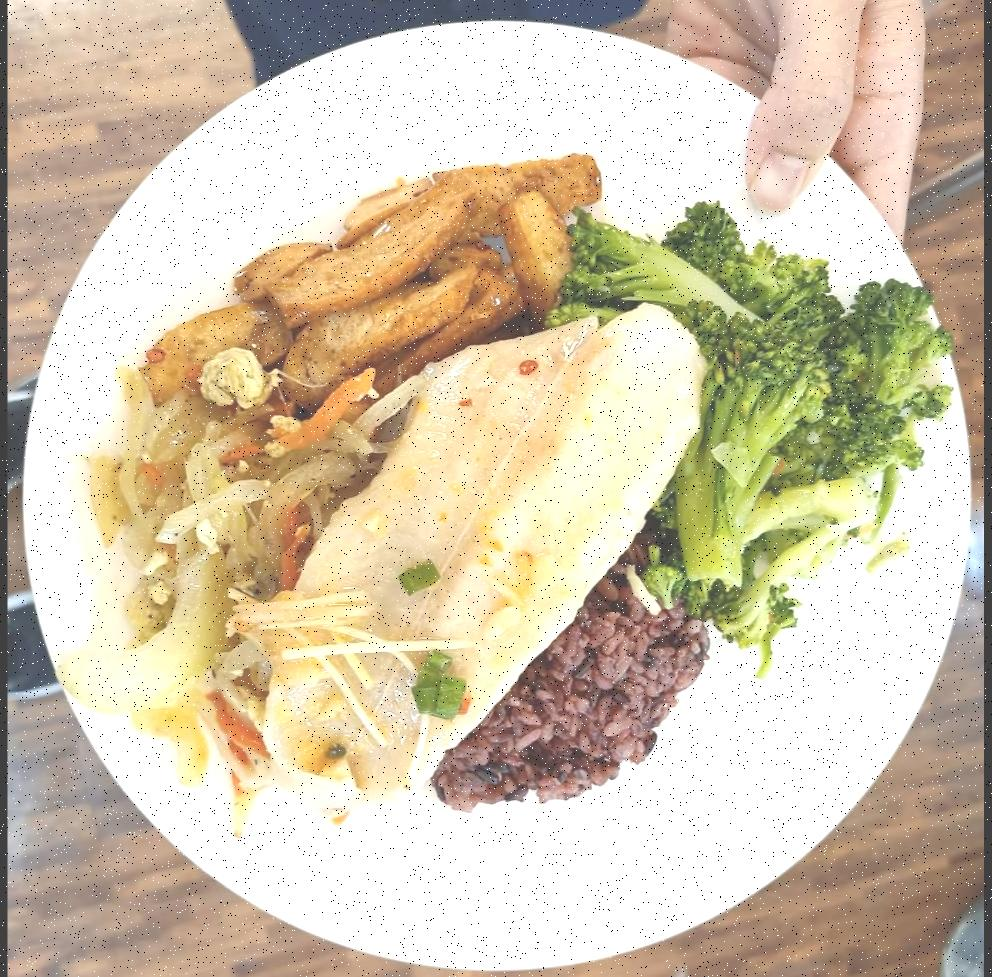plate: (10, 4, 968, 964)
purple rice: (432, 456, 711, 820)
side dish: (568, 200, 954, 640), (67, 343, 392, 841), (140, 146, 618, 424)
steamed fish fillet: (255, 305, 718, 824)
